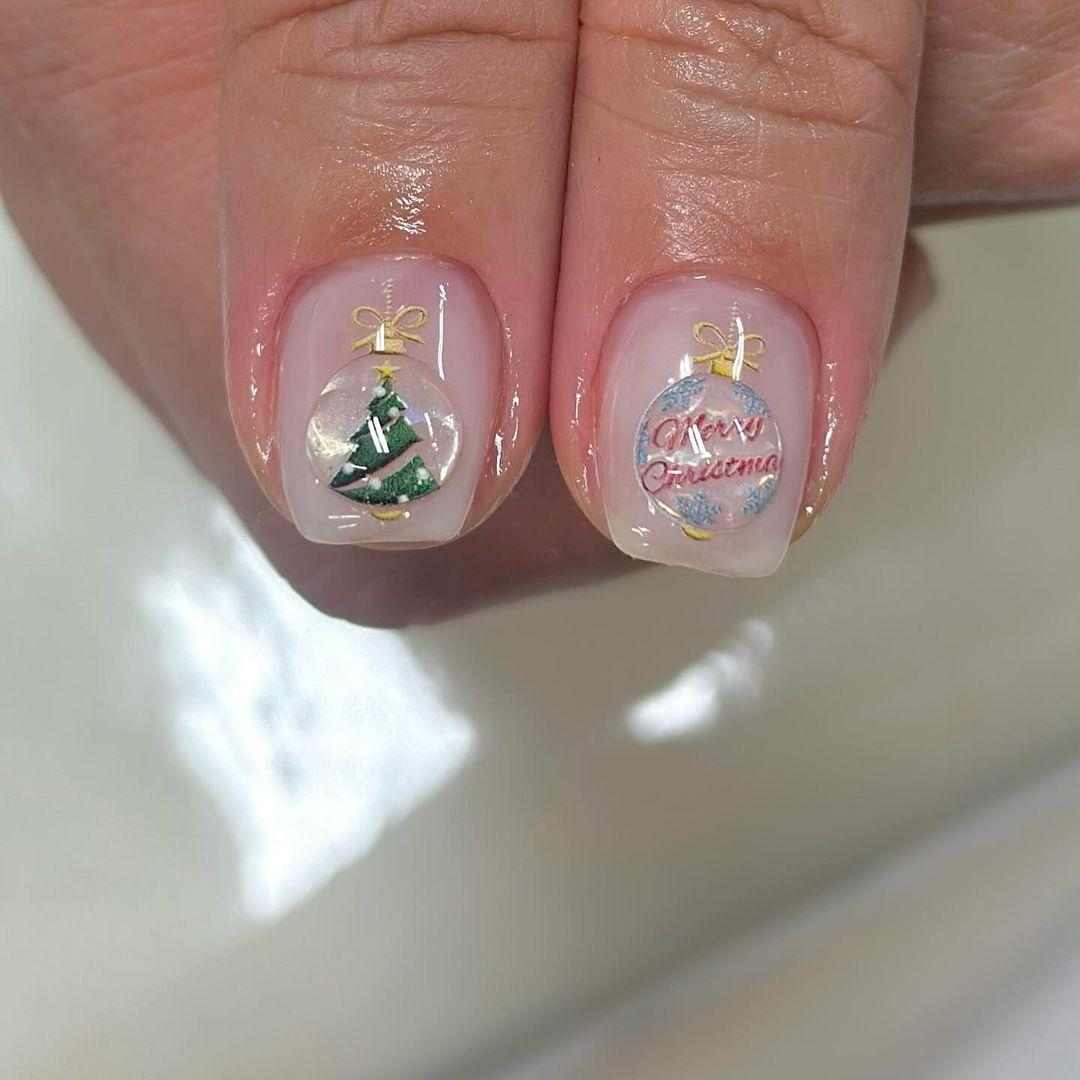nail: (257, 248, 511, 551), (586, 266, 823, 578)
